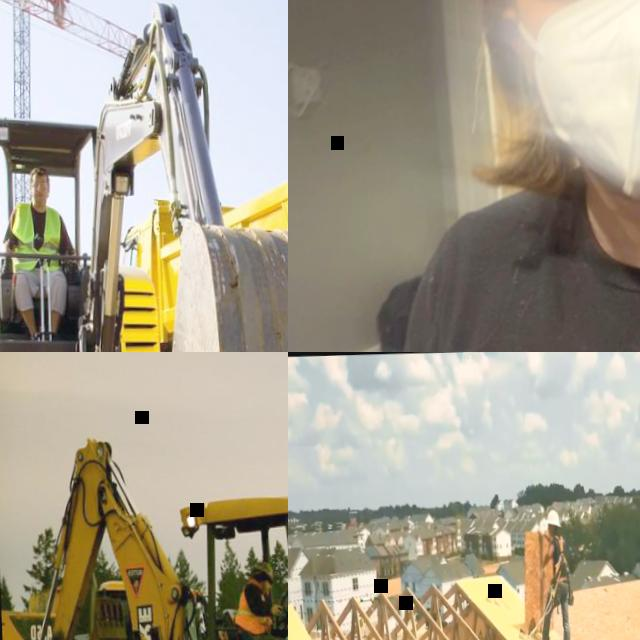Hardhat: (252, 558, 274, 578), (545, 509, 560, 529)
Mask: (513, 0, 640, 206)
NO-Hardhat: (31, 165, 48, 177)
NO-Mask: (31, 192, 46, 206), (259, 581, 270, 595), (548, 528, 553, 536)
NO-Safety Vest: (423, 140, 640, 352), (9, 201, 63, 266), (551, 534, 566, 578)
Person: (341, 0, 640, 352), (0, 163, 80, 338), (533, 508, 571, 640), (230, 555, 288, 640)
Safety Vest: (233, 577, 273, 633)
vehicle: (0, 0, 288, 352), (16, 419, 288, 640), (109, 82, 288, 352), (0, 568, 207, 640)
